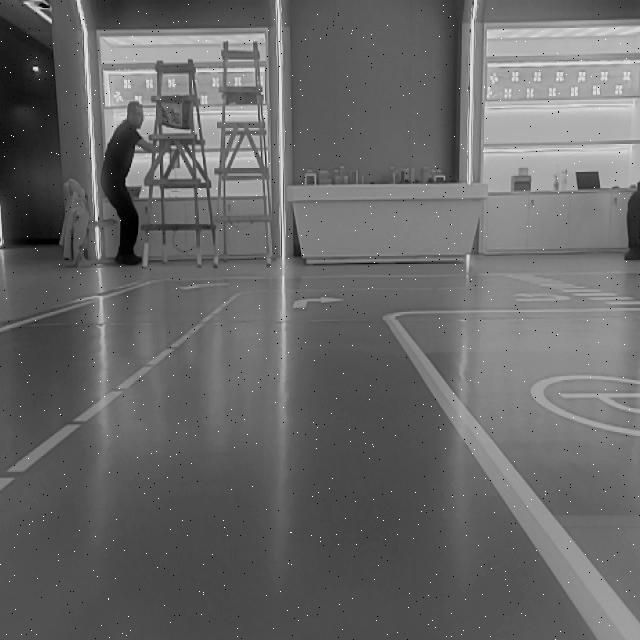left_lane: (0, 287, 257, 493)
right_lane: (386, 325, 617, 635), (0, 276, 149, 337)
